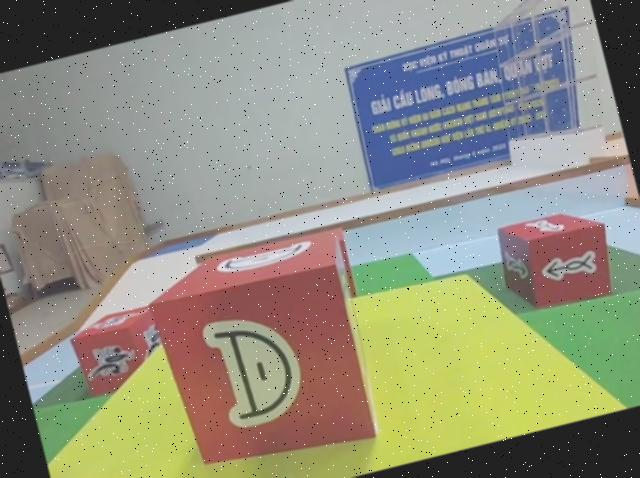R1: (66, 299, 176, 404)
R2 Real: (135, 222, 392, 478), (488, 200, 625, 322)
